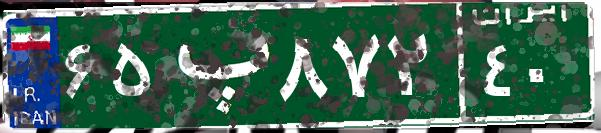0: (525, 38, 570, 115)
2: (385, 28, 445, 110)
4: (475, 38, 525, 113)
5: (110, 28, 158, 105)
6: (57, 26, 110, 107)
7: (330, 28, 385, 110)
8: (273, 28, 330, 110)
پ: (158, 15, 273, 115)
